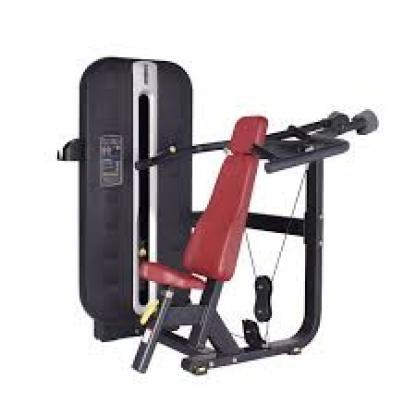shoulder press machine: (53, 46, 382, 378)
